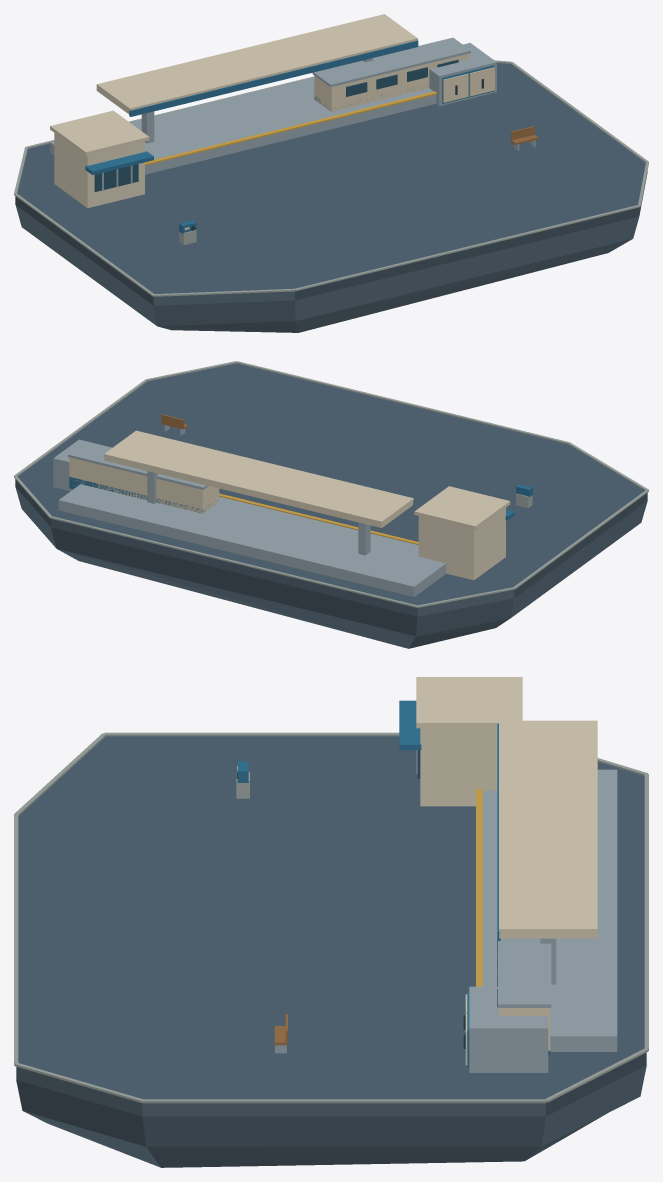
The model's file is fi08-freight-station.glb.
3 views of the same model, one above another, from view 1: azimuth 30°, elevation 25°; view 2: azimuth 150°, elevation 25°; view 3: azimuth 270°, elevation 25° (orthographic). The views are drawn at different scales.
Parts seen in each view (by area): view 1: GEO_ground, GEO_foundation, LAND_1_canopy, LAND_0_platform, LAND_2_station, LAND_4_traincar, GEO_rim, LAND_3_cargo; view 2: GEO_ground, GEO_foundation, LAND_0_platform, LAND_1_canopy, LAND_2_station, GEO_rim, LAND_4_traincar, LAND_3_cargo; view 3: GEO_ground, GEO_foundation, LAND_1_canopy, LAND_0_platform, LAND_2_station, GEO_rim, LAND_3_cargo, LAND_4_traincar.
Part boxes in pixels (x1,y1,x2,y2): GEO_ground: (17,63,645,293); GEO_foundation: (15,171,647,332); LAND_1_canopy: (96,14,418,143); LAND_0_platform: (50,77,437,174); LAND_2_station: (50,110,153,208); LAND_4_traincar: (312,37,470,111); GEO_rim: (14,60,648,296); LAND_3_cargo: (429,43,496,105); GEO_ground: (17,363,644,605); GEO_foundation: (15,479,647,648); LAND_0_platform: (58,484,446,596); LAND_1_canopy: (104,430,414,555); LAND_2_station: (414,486,514,580); GEO_rim: (14,361,648,607); LAND_4_traincar: (68,442,219,513); LAND_3_cargo: (53,439,112,491); GEO_ground: (18,736,644,1099); GEO_foundation: (16,1052,646,1167); LAND_1_canopy: (497,720,597,984); LAND_0_platform: (476,769,617,1051); LAND_2_station: (399,677,522,806); GEO_rim: (14,732,648,1103); LAND_3_cargo: (463,986,548,1072); LAND_4_traincar: (497,938,551,1055).
Size of the model in its own units: 44.22 by 9.97 by 32.22.
